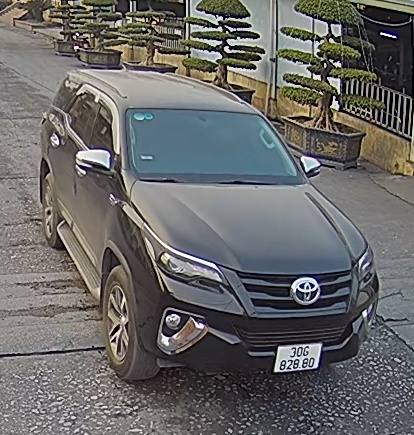vehicle plate: (274, 342, 321, 375)
